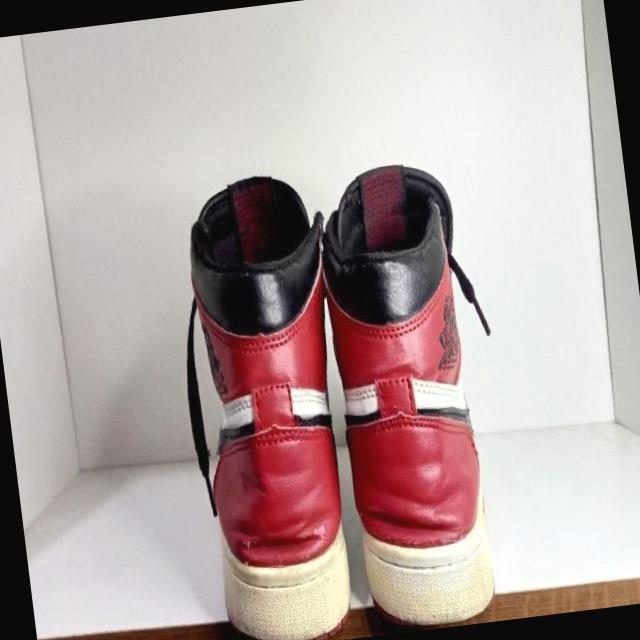nike_fake_jordan: (165, 165, 373, 640), (310, 158, 506, 637)
